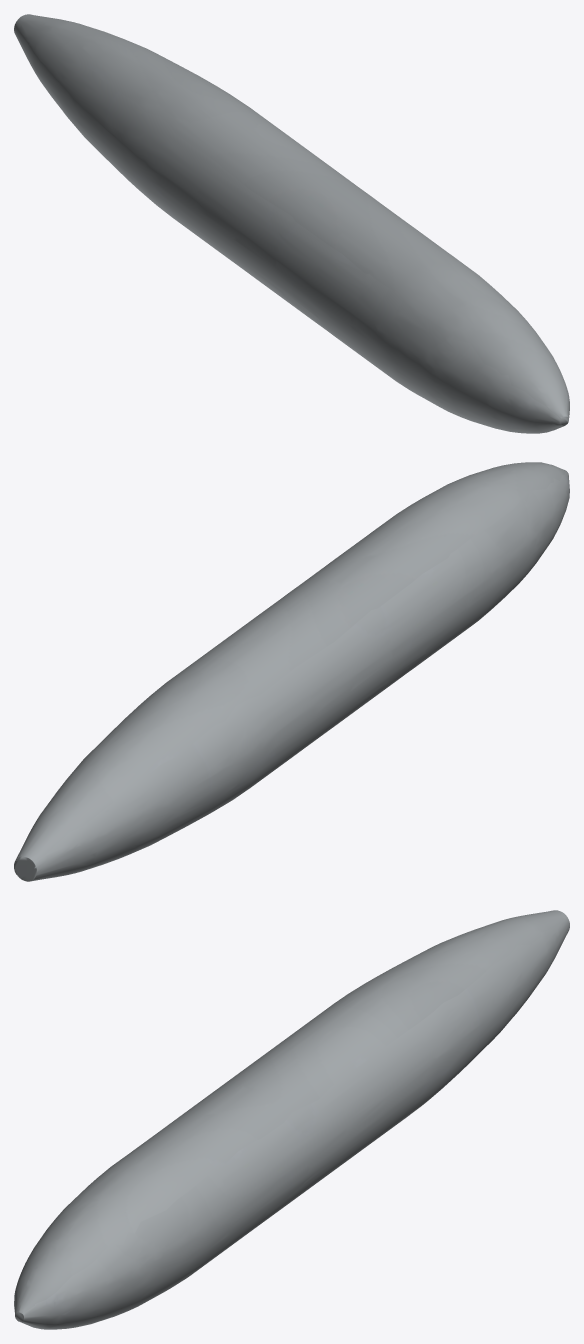
File: f22tank600gal.glb
The picture shows the model from 3 angles, top to bottom: view 1: azimuth 30°, elevation 25°; view 2: azimuth 150°, elevation 25°; view 3: azimuth 330°, elevation 25°; orthographic projection.
Parts seen in each view (by area): view 1: airframe; view 2: airframe; view 3: airframe.
Boxes of the visible parts, box(x1,y1,x2,y2) form: airframe: box(14, 14, 569, 433); airframe: box(14, 462, 569, 881); airframe: box(14, 910, 569, 1329).
Bounding box in the file's own units: 0.8104 × 0.8105 × 6.48.
Materials: 1 (1 with a texture image).
